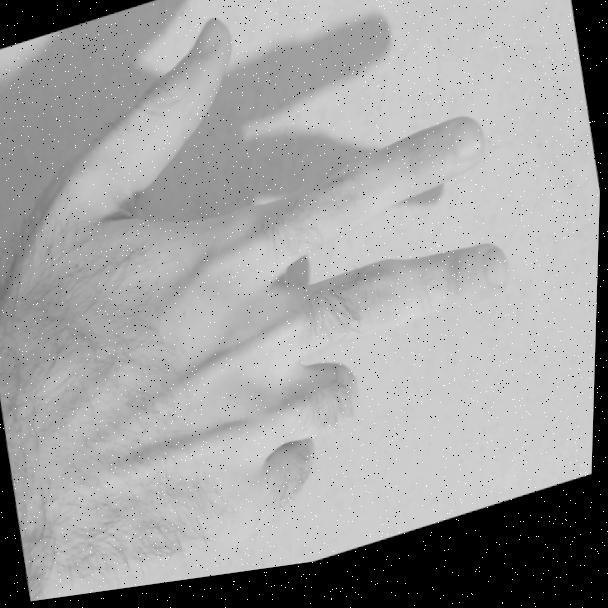three: (0, 0, 553, 588)
